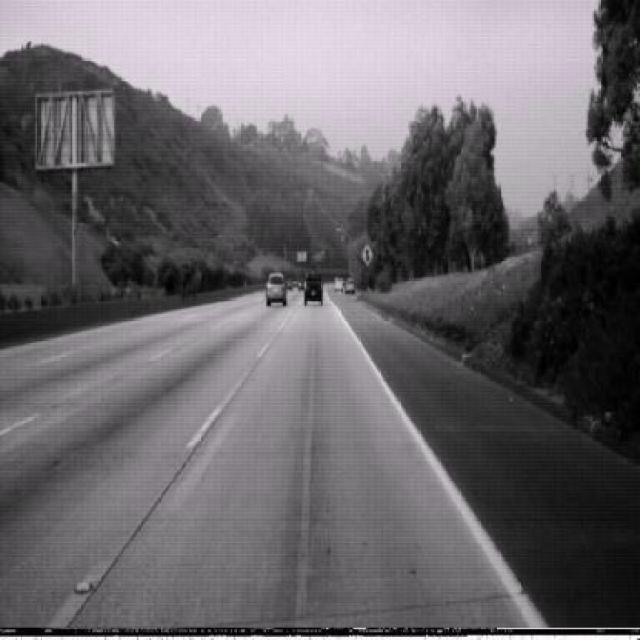merge: (360, 243, 373, 266)
